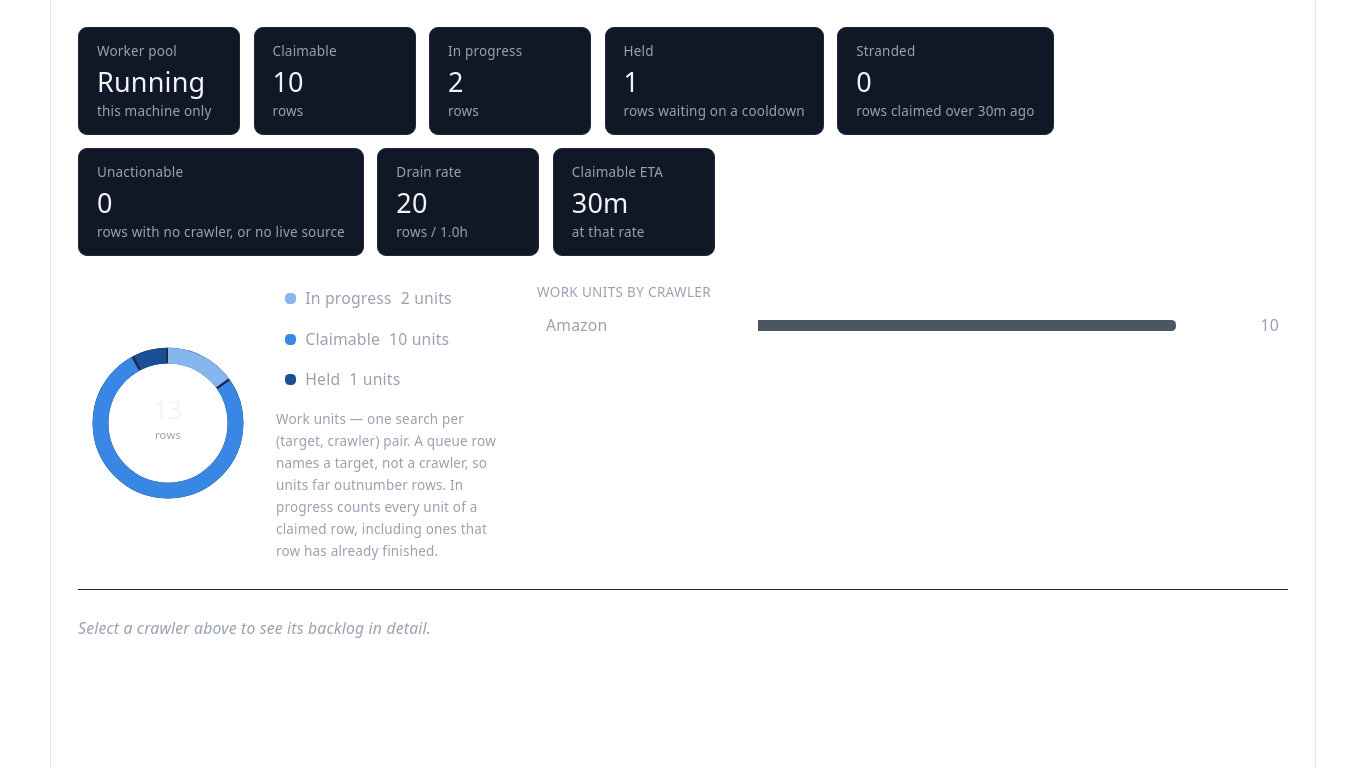
it: QueueView › says so when a selected crawler has nothing claimable
Click the button "Amazon 10": (912, 326) 537,310 -> 1288,341
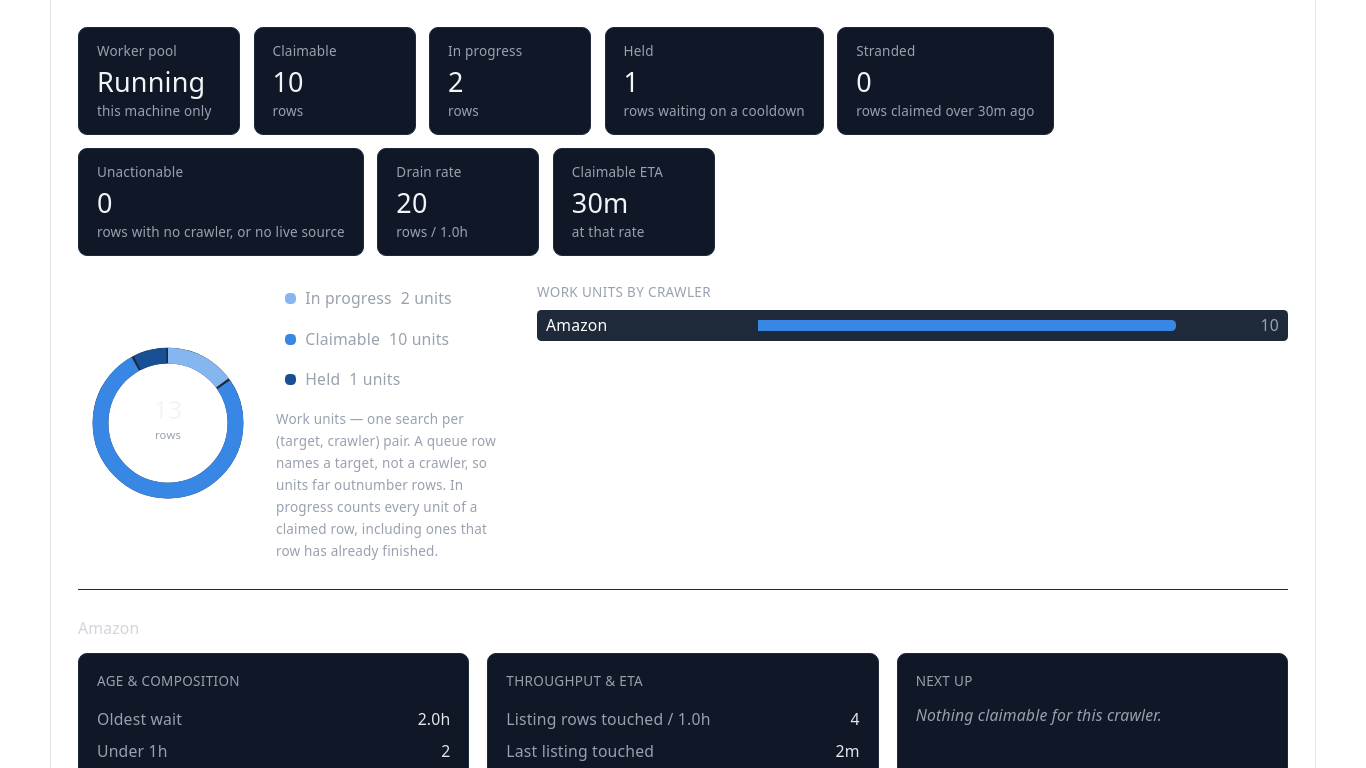
expect the text "Nothing claimable for this crawler." is shown: met, box 916,704 -> 1162,726
